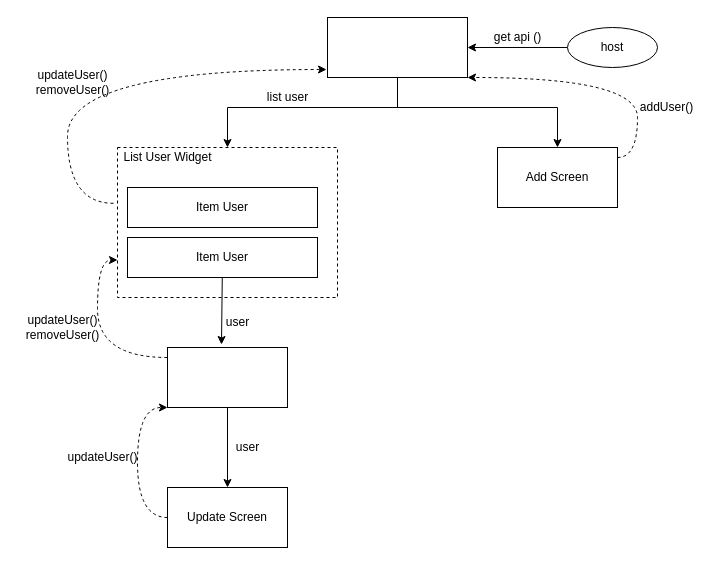
This 718x565 diagram has some shape labels left out. Here are the shapes that lost their labels. From the top down, the centre of each, then its label:
the point at 397,47: Main Screen
the point at 227,377: Detail Screen
